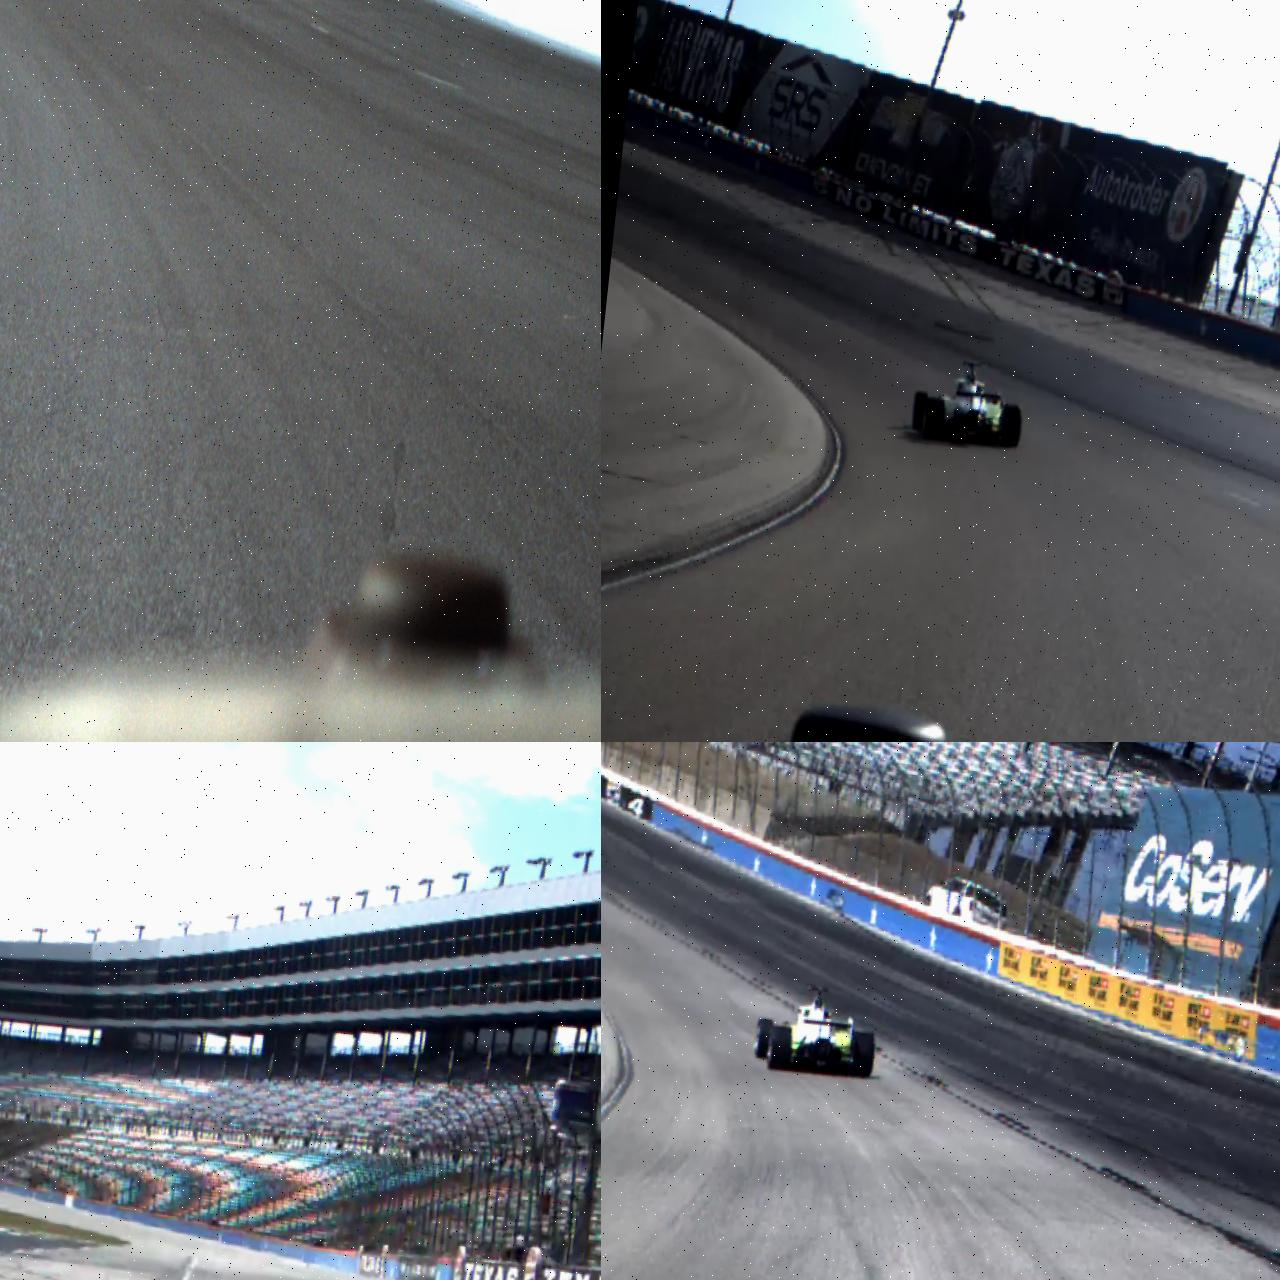AV: (751, 979, 882, 1081), (910, 356, 1028, 452)
Wheel: (849, 1031, 878, 1080), (918, 397, 948, 444), (766, 1025, 794, 1072), (998, 403, 1024, 449), (754, 1019, 774, 1059), (911, 390, 928, 434)
